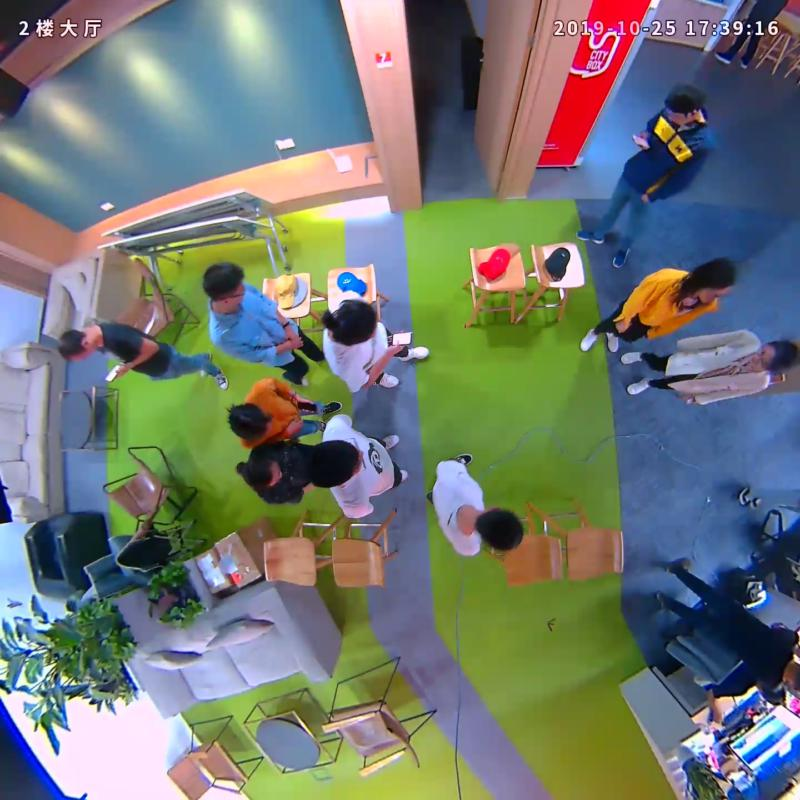head: (306, 439, 362, 490), (471, 507, 524, 551), (331, 299, 378, 346), (696, 257, 737, 306), (203, 262, 247, 305), (663, 85, 703, 126), (228, 403, 268, 443), (749, 338, 797, 371), (240, 454, 282, 490), (58, 328, 95, 364)
